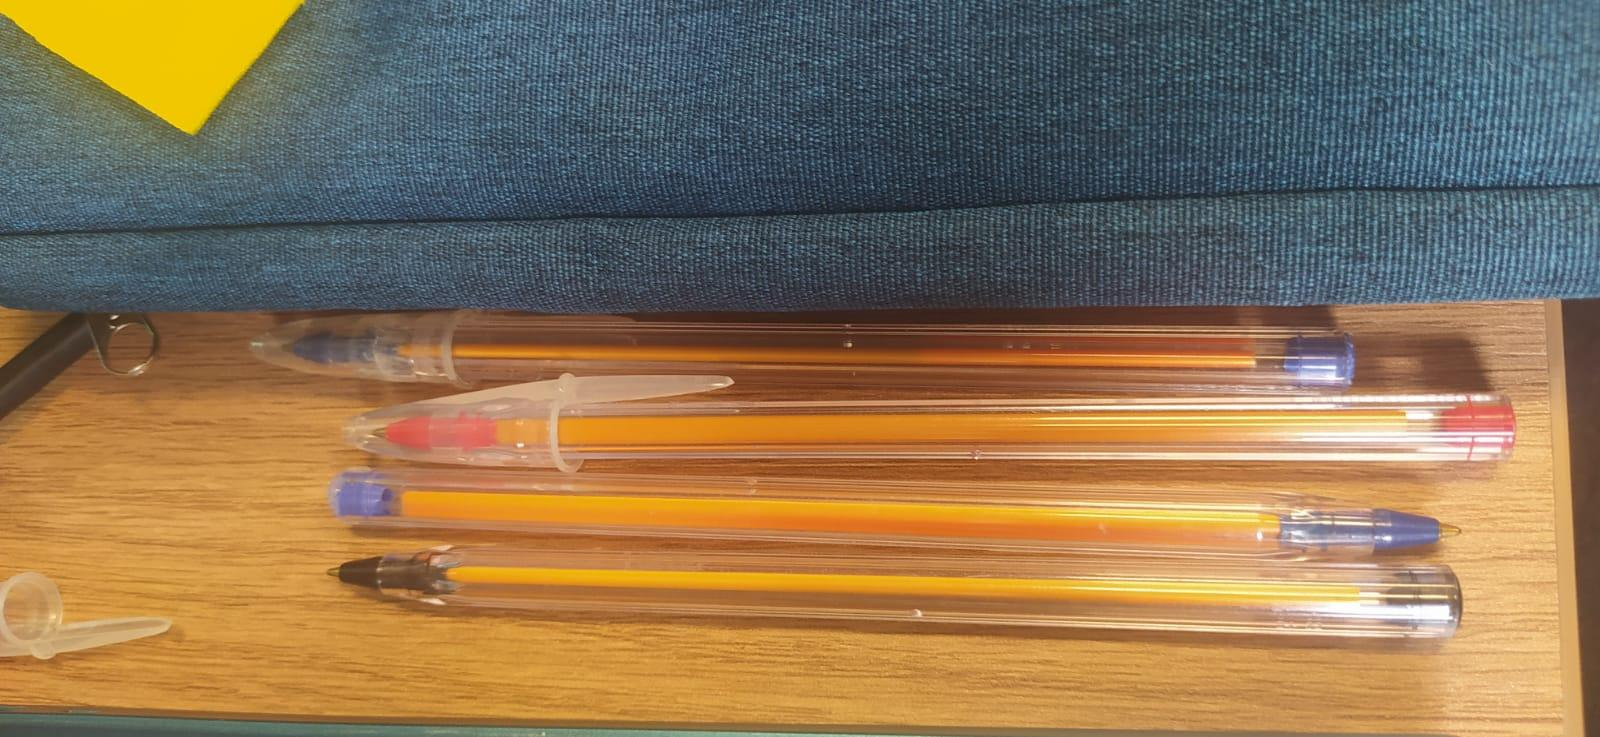pen: (322, 546, 1467, 653), (328, 468, 1472, 559), (344, 389, 1523, 477), (246, 311, 1358, 392)
